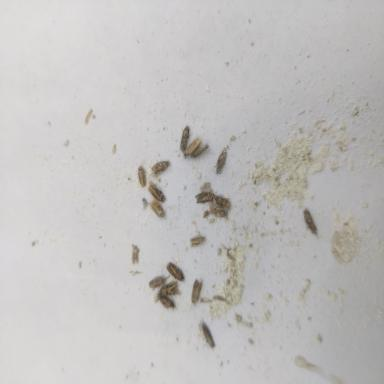pbw: (200, 318, 215, 349), (302, 208, 318, 237), (182, 136, 202, 158), (148, 267, 166, 289), (148, 200, 170, 218), (148, 181, 166, 203), (157, 280, 180, 296), (191, 278, 204, 306), (156, 292, 176, 310), (166, 262, 184, 282), (195, 190, 215, 208), (180, 126, 193, 153), (149, 161, 171, 176), (215, 147, 226, 174), (191, 143, 208, 158), (209, 207, 229, 219), (138, 163, 147, 188), (214, 196, 231, 209), (190, 237, 206, 246), (132, 245, 139, 264)
